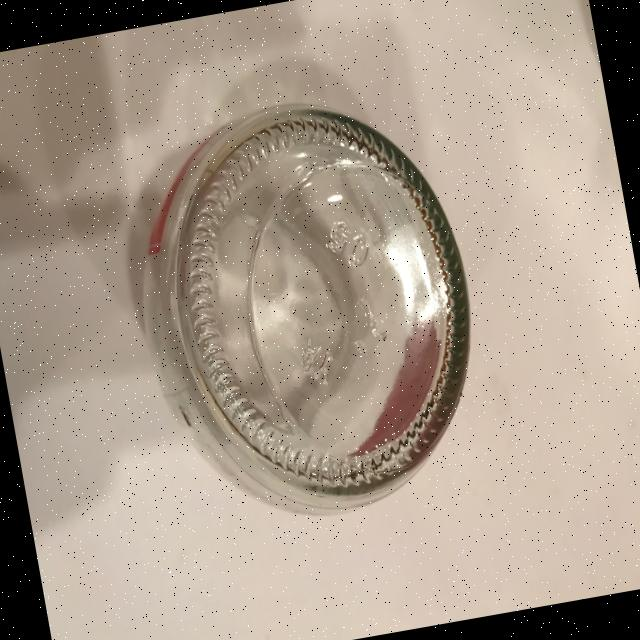glass: (105, 75, 503, 542)
